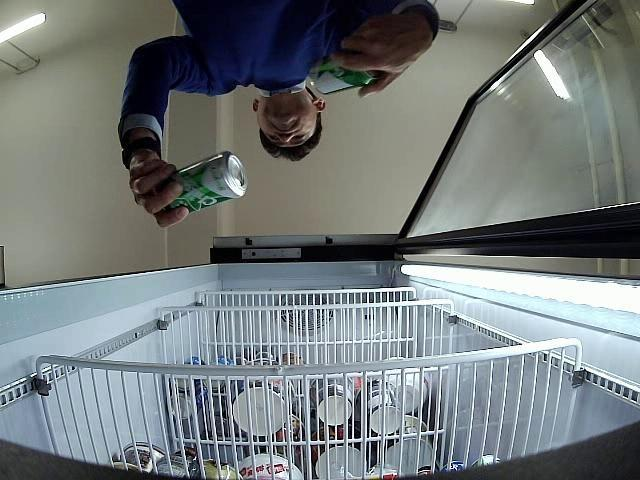12_chilsungCider: (156, 152, 248, 218), (308, 60, 382, 94)
